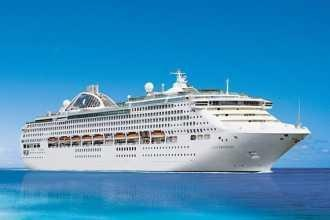youlun: (15, 66, 306, 174)
